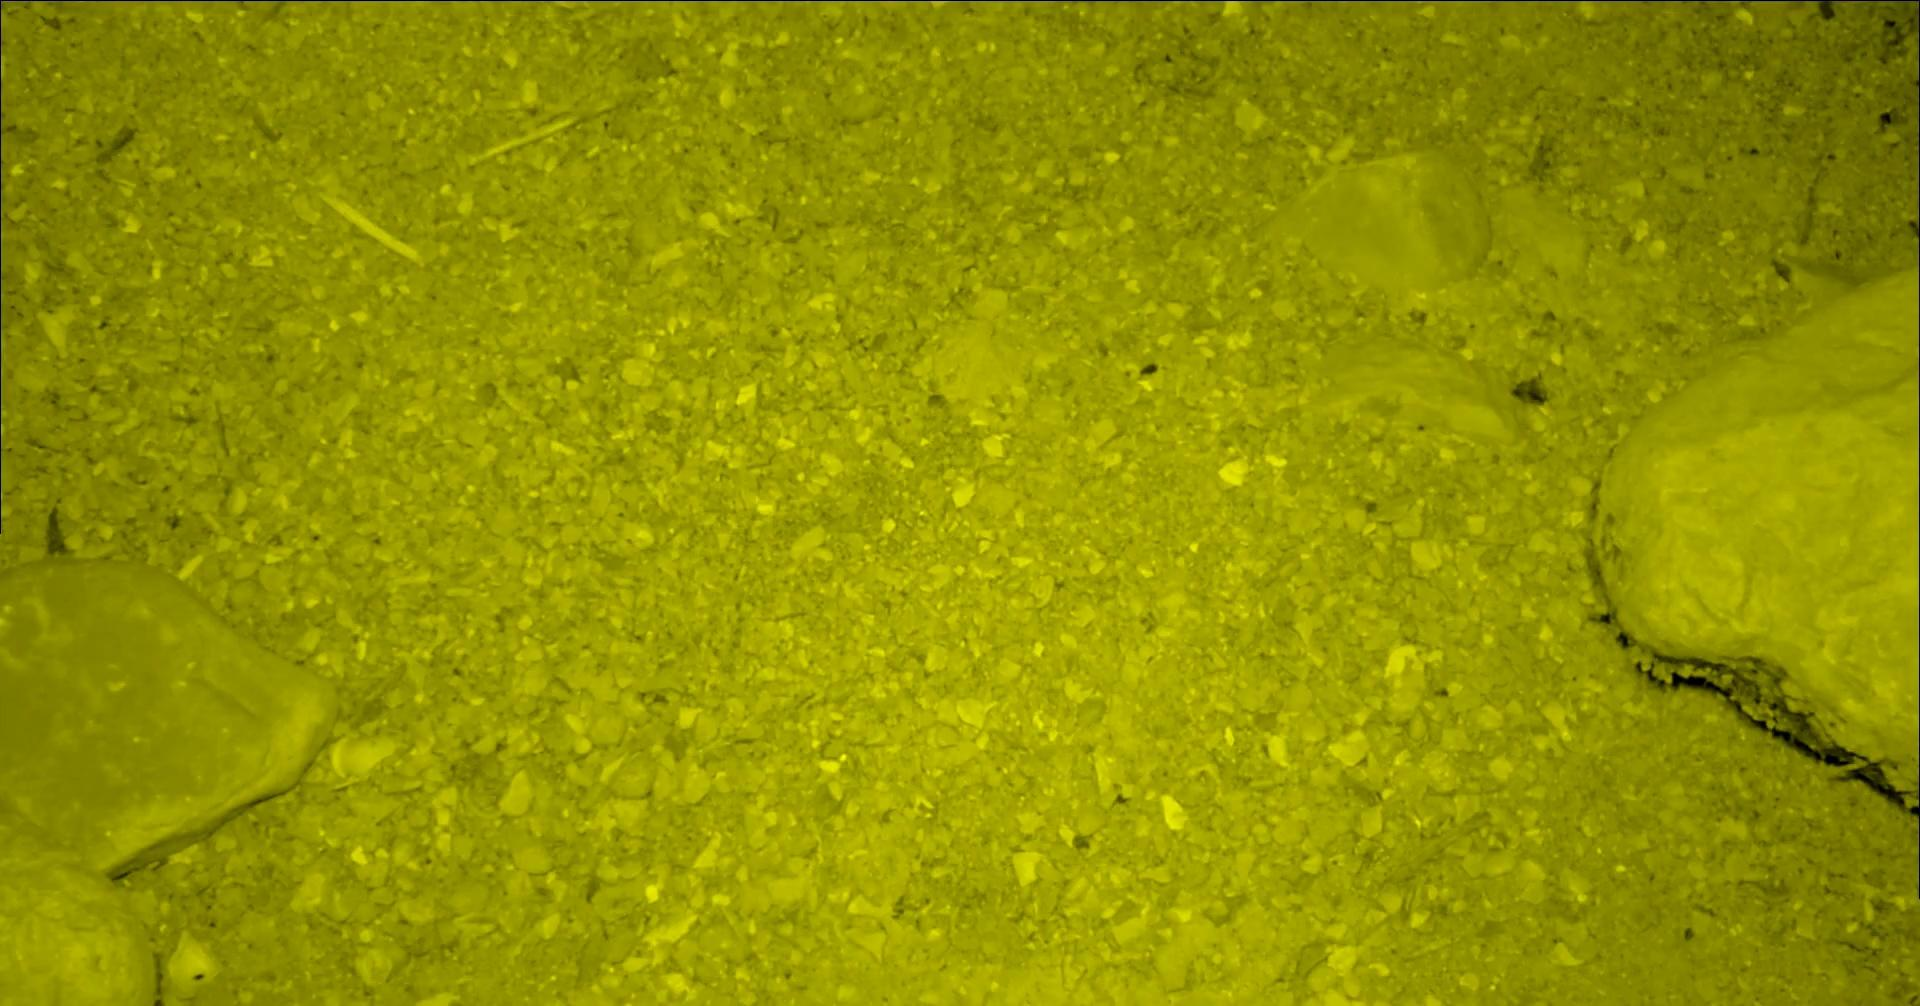ant: (1829, 0, 1919, 8), (1917, 85, 1919, 171), (1738, 0, 1822, 1)
